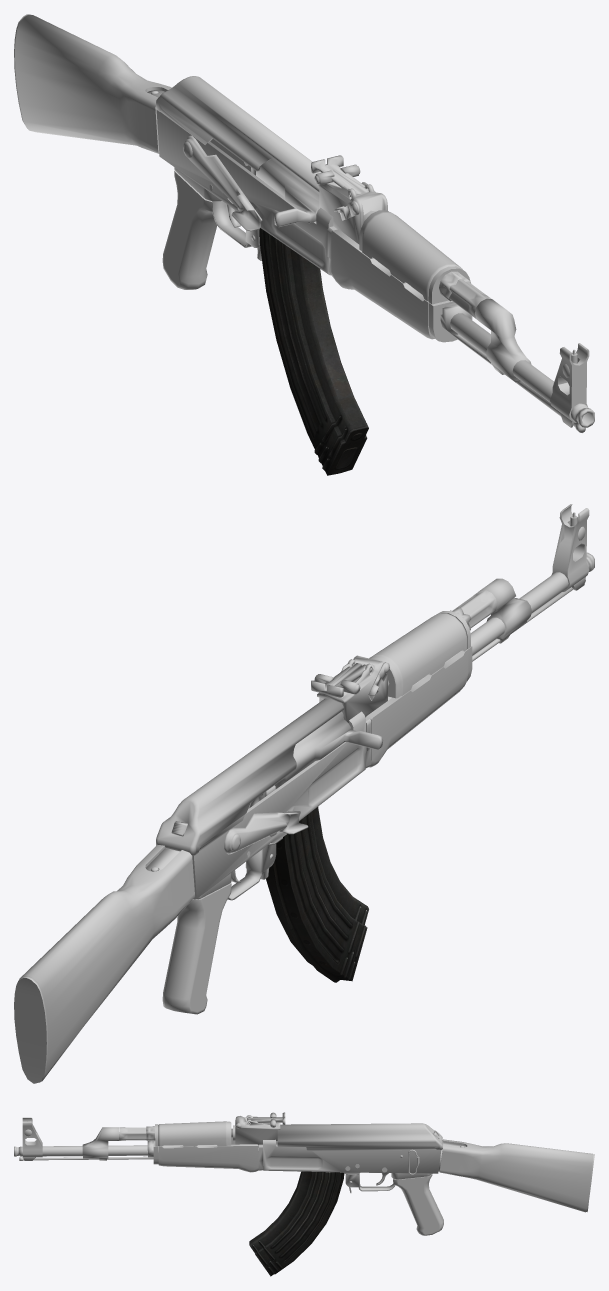
3 views of the same model, one above another, from view 1: azimuth 30°, elevation 25°; view 2: azimuth 150°, elevation 25°; view 3: azimuth 270°, elevation 25° (orthographic). The views are drawn at different scales.
Visible parts, largest first — view 1: Gora, Kolba, Magazynek, Drewno, Korpus-dol, Raczka, Muszka; view 2: Gora, Kolba, Magazynek, Drewno, Korpus-dol, Raczka, Muszka; view 3: Gora, Kolba, Magazynek, Korpus-dol, Drewno, Raczka, Muszka.
Part boxes in pixels (left/top/right/bottom): Gora: left=147, top=76, right=594, bottom=432; Kolba: left=14, top=14, right=171, bottom=153; Magazynek: left=259, top=228, right=368, bottom=475; Drewno: left=327, top=210, right=472, bottom=342; Korpus-dol: left=156, top=110, right=333, bottom=275; Raczka: left=162, top=170, right=217, bottom=289; Muszka: left=550, top=343, right=589, bottom=427; Gora: left=146, top=552, right=594, bottom=900; Kolba: left=14, top=845, right=194, bottom=1083; Magazynek: left=266, top=807, right=368, bottom=982; Drewno: left=365, top=611, right=472, bottom=768; Korpus-dol: left=192, top=711, right=365, bottom=899; Raczka: left=162, top=882, right=231, bottom=1014; Muszka: left=551, top=504, right=589, bottom=591; Gora: left=14, top=1112, right=466, bottom=1193; Kolba: left=439, top=1139, right=594, bottom=1212; Magazynek: left=249, top=1171, right=344, bottom=1276; Korpus-dol: left=263, top=1139, right=441, bottom=1179; Drewno: left=153, top=1121, right=263, bottom=1172; Raczka: left=393, top=1173, right=443, bottom=1235; Muszka: left=22, top=1117, right=42, bottom=1160.
Size of the model in its own units: 756 by 2907 by 9704.
